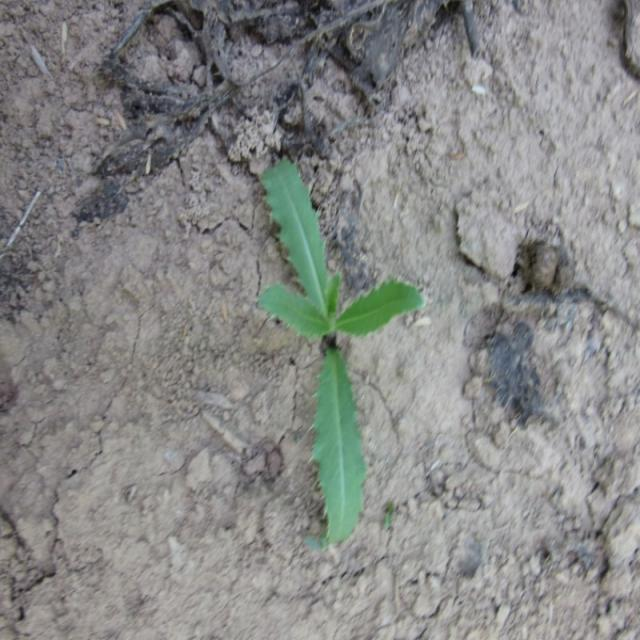cs: (252, 153, 424, 552)
